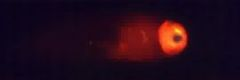keyhole: (171, 32, 184, 46)
